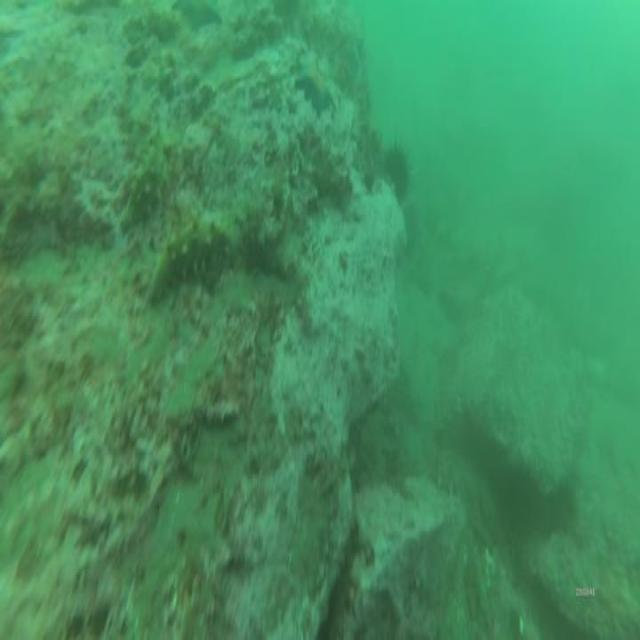echinus: (385, 149, 410, 202)
holothurian: (147, 213, 240, 294), (117, 132, 167, 225)
starfish: (294, 55, 334, 111), (175, 0, 221, 35)
